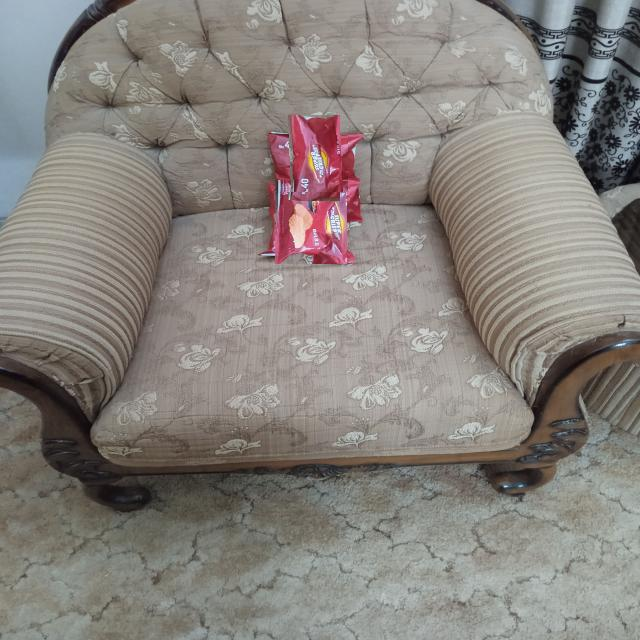Plastic: (272, 183, 350, 262), (280, 122, 348, 192)
